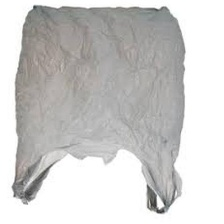plastic_bag: (7, 2, 197, 218)
